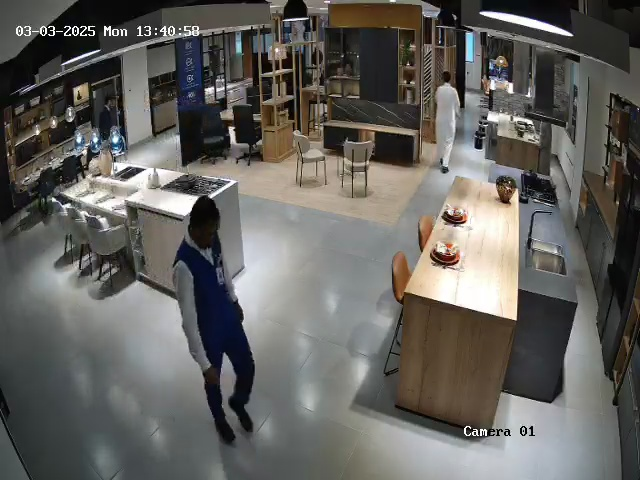employee: (172, 196, 256, 445)
male: (434, 71, 461, 174), (94, 94, 122, 143)
